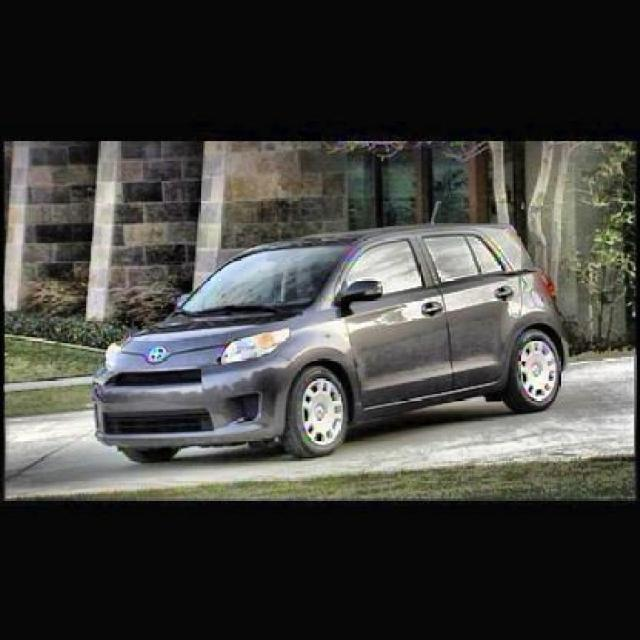black: (93, 222, 568, 465)
